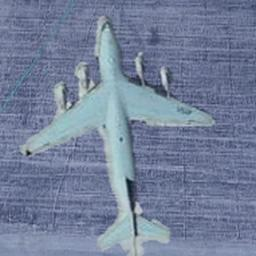Airplane: (18, 14, 216, 255)
